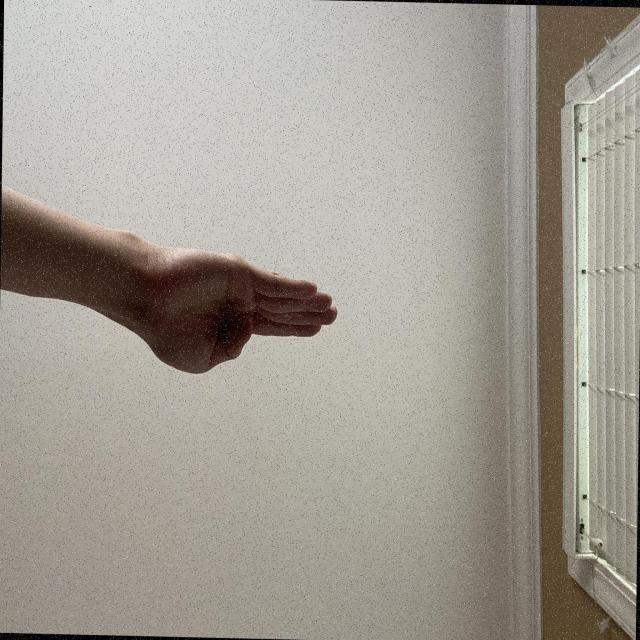B: (331, 397, 448, 640)
